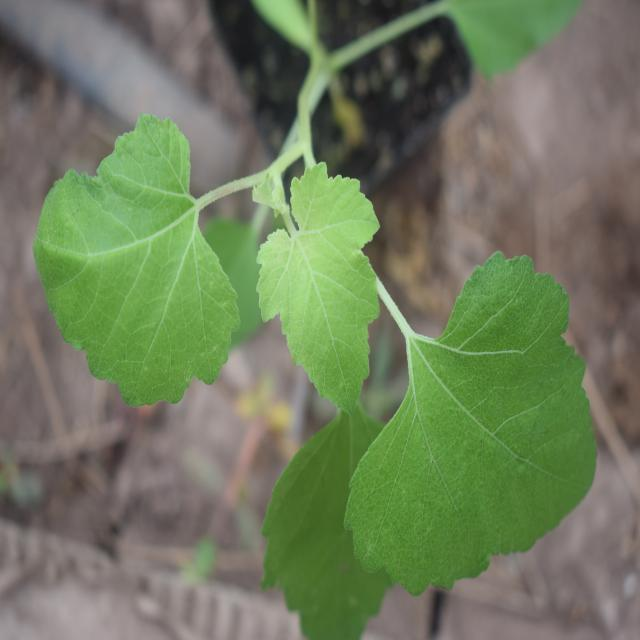cocklebur: (36, 124, 598, 607)
